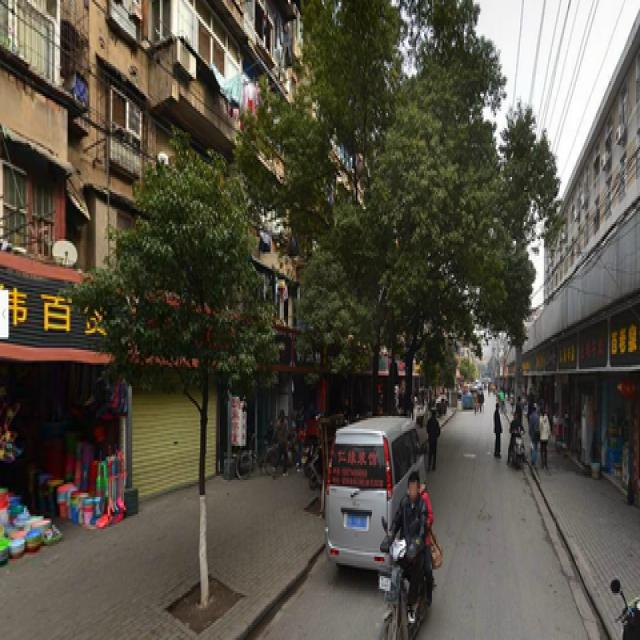cinn: (137, 165, 247, 612)
